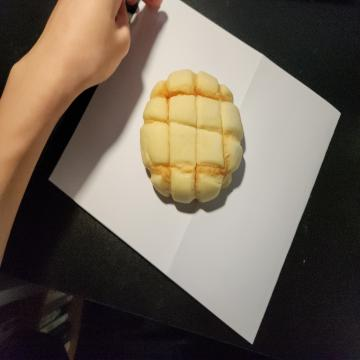melon_bread: (140, 69, 244, 205)
